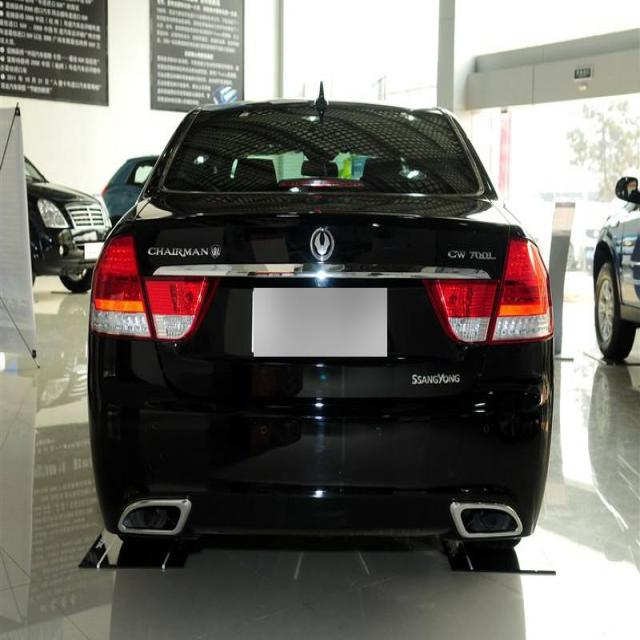back_glass: (158, 104, 484, 197)
back_left_side_light: (86, 226, 210, 344)
back_right_side_light: (429, 232, 556, 348)
rear_bumper: (83, 341, 554, 546)
